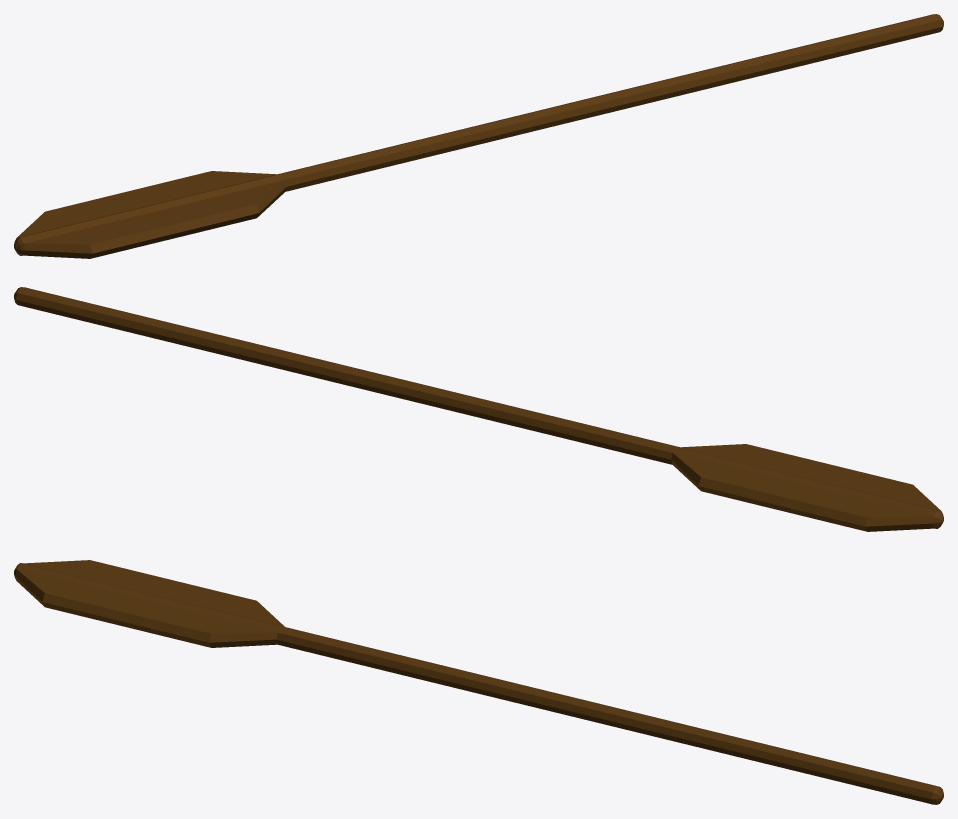
File: Oar.fbx
3 views of the same model, one above another, from view 1: azimuth 30°, elevation 25°; view 2: azimuth 150°, elevation 25°; view 3: azimuth 330°, elevation 25° (orthographic).
Visible parts, largest first — view 1: Cube; view 2: Cube; view 3: Cube.
Part boxes in pixels (box(x1,y1,x2,y2)): Cube: box(14, 14, 943, 258); Cube: box(14, 287, 943, 531); Cube: box(14, 560, 943, 804).
Size of the model in its own units: 938 by 17.74 by 88.
